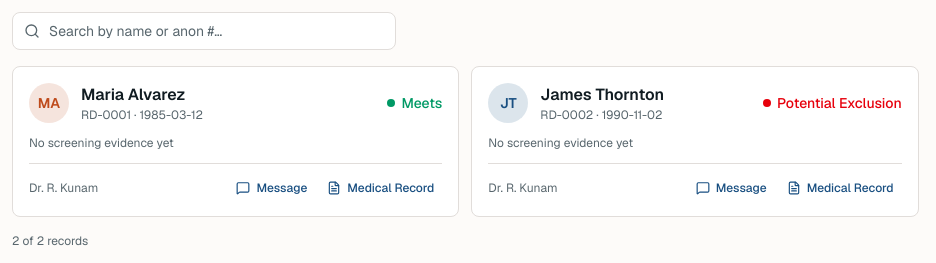
Test case: PatientsTable › clears the search when Clear is clicked
Type "thornton" into the field named "Search patients" at (204, 31), box [12, 12, 396, 50]
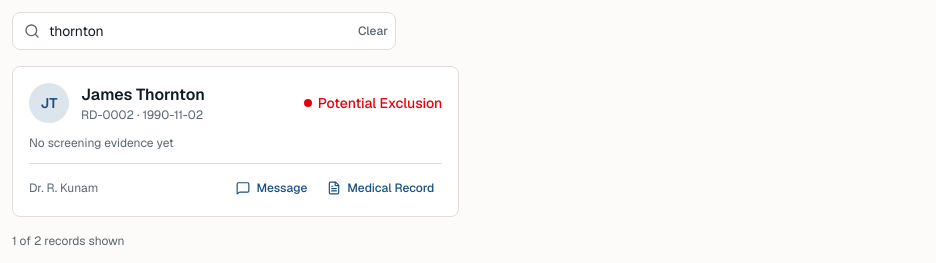
Click the button with aria-label "Clear search" at (373, 31), box [358, 23, 388, 39]
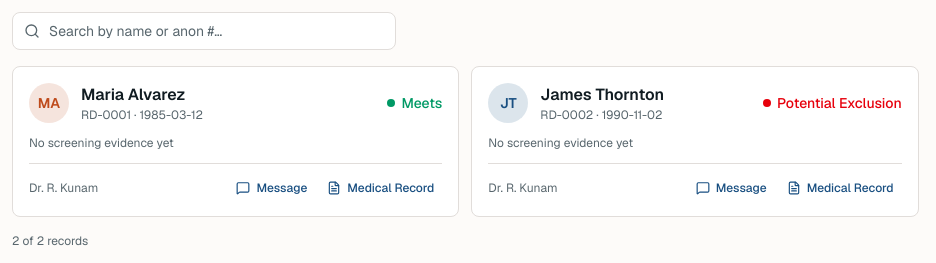
Check: the text "Maria Alvarez" is shown, box [81, 83, 203, 107]
